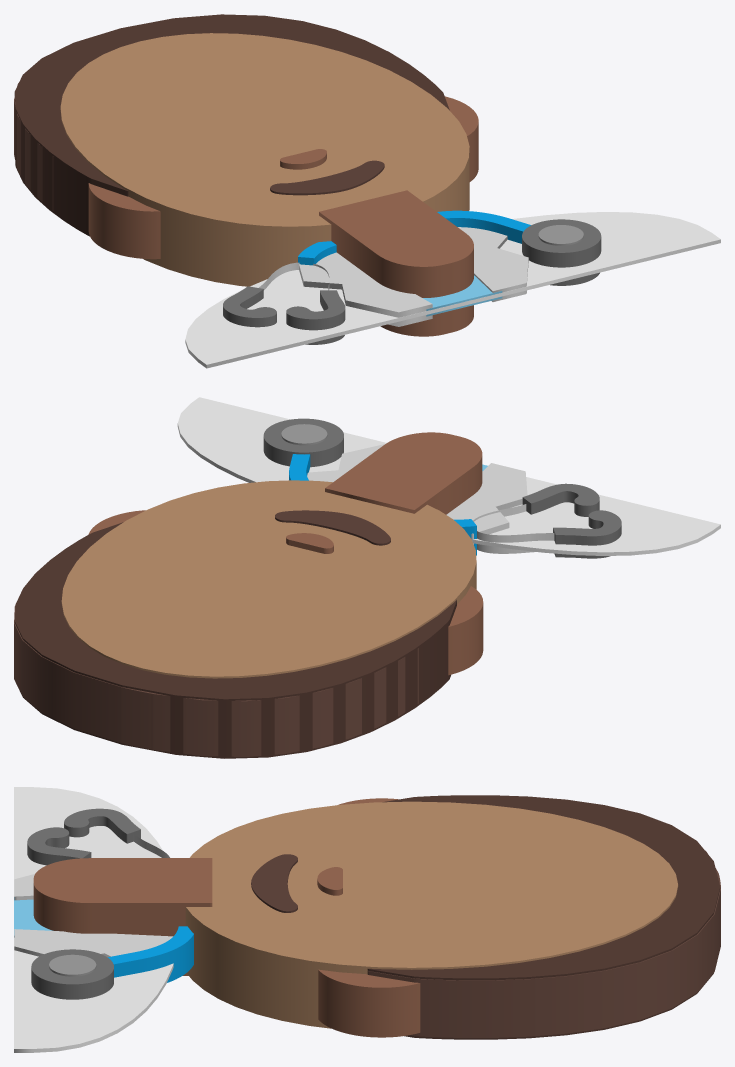
File: emoji_u1f468_1f3fd_200d_2695.glb
3 renders of one model, top to bottom at view 1: azimuth 30°, elevation 25°; view 2: azimuth 150°, elevation 25°; view 3: azimuth 270°, elevation 25°, orthographic. The views are drawn at different scales.
Visible parts, largest first — view 1: emoji_u1f468_1f3fd_200d_2695; view 2: emoji_u1f468_1f3fd_200d_2695; view 3: emoji_u1f468_1f3fd_200d_2695.
Part boxes in pixels (box(x1,y1,x2,y2)): emoji_u1f468_1f3fd_200d_2695: box(14, 14, 720, 368); emoji_u1f468_1f3fd_200d_2695: box(14, 397, 720, 758); emoji_u1f468_1f3fd_200d_2695: box(14, 787, 720, 1052).
Bounding box in the file's own units: 0.0293 × 0.004 × 0.0334.
